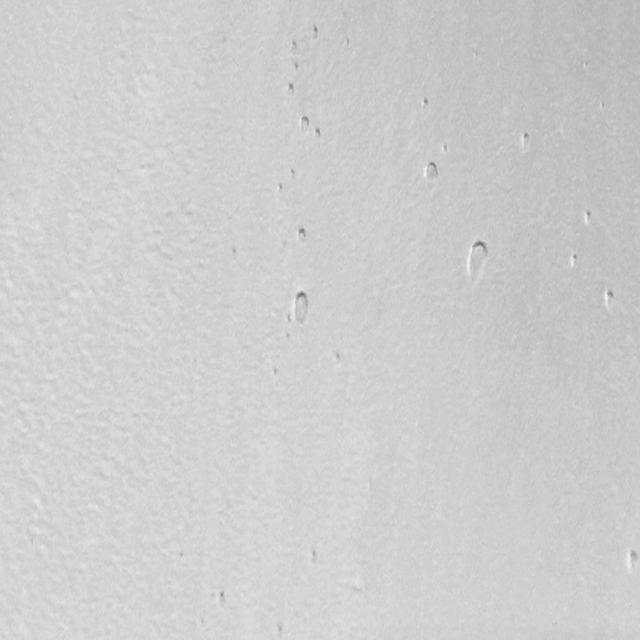pin holes: (464, 238, 492, 282), (288, 288, 314, 328), (421, 160, 441, 188), (621, 546, 639, 574), (600, 286, 618, 311), (329, 350, 345, 372), (293, 226, 309, 246), (213, 589, 229, 608), (516, 130, 531, 150), (579, 209, 593, 230), (304, 547, 320, 565), (568, 252, 581, 272), (296, 115, 311, 132), (273, 621, 288, 637), (309, 25, 323, 42), (419, 95, 432, 112), (284, 83, 296, 99), (312, 128, 324, 144), (287, 40, 299, 56), (288, 59, 300, 75), (227, 244, 239, 260), (272, 183, 284, 198), (340, 36, 351, 52), (287, 166, 297, 181), (438, 141, 448, 155), (598, 100, 608, 113)
